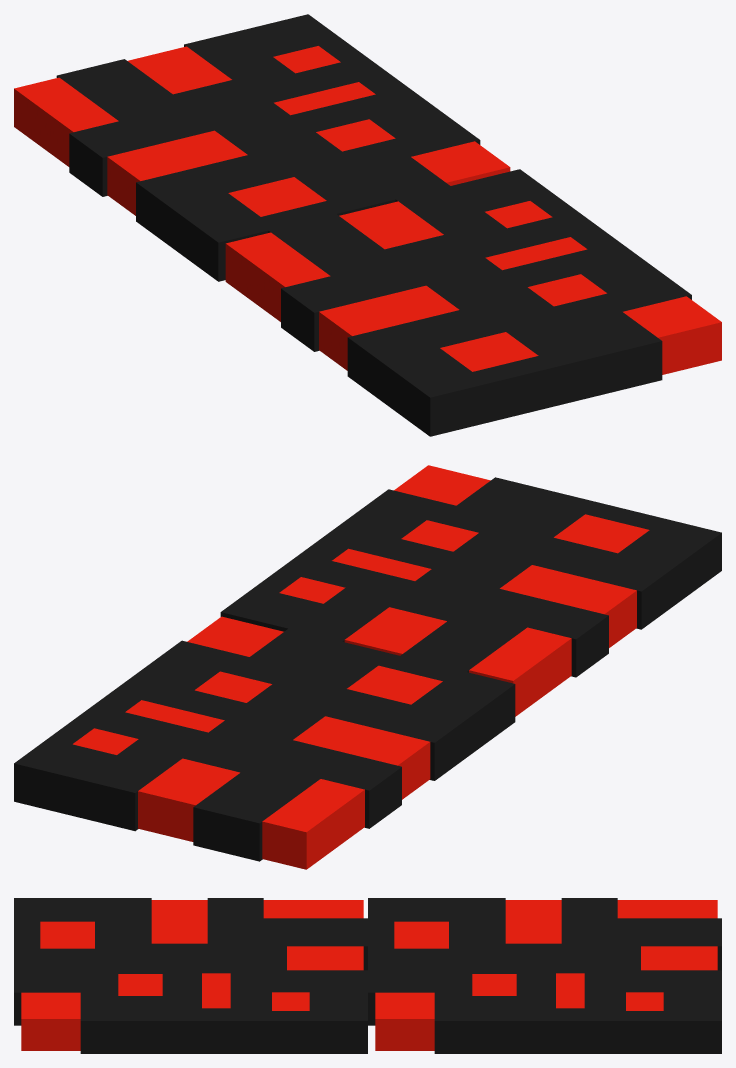
Rendered from PlataformaMov.FBX.
3 views of the same model, one above another, from view 1: azimuth 30°, elevation 25°; view 2: azimuth 150°, elevation 25°; view 3: azimuth 270°, elevation 25° (orthographic). The views are drawn at different scales.
Visible parts, largest first — view 1: Box004, Box006, Box003, Box005; view 2: Box006, Box004, Box005, Box003; view 3: Box004, Box006, Box003, Box005.
Boxes of the visible parts, x1,y1,x2,y2 form: Box004: [268, 169, 691, 436]; Box006: [56, 14, 480, 281]; Box003: [225, 201, 721, 374]; Box005: [14, 46, 510, 216]; Box006: [14, 628, 515, 861]; Box004: [220, 477, 721, 677]; Box005: [73, 616, 442, 869]; Box003: [279, 465, 649, 716]; Box004: [14, 898, 367, 1053]; Box006: [368, 898, 721, 1053]; Box003: [21, 900, 363, 1050]; Box005: [375, 900, 717, 1050].
Bounding box in the file's own units: 219 × 27.12 × 531.
